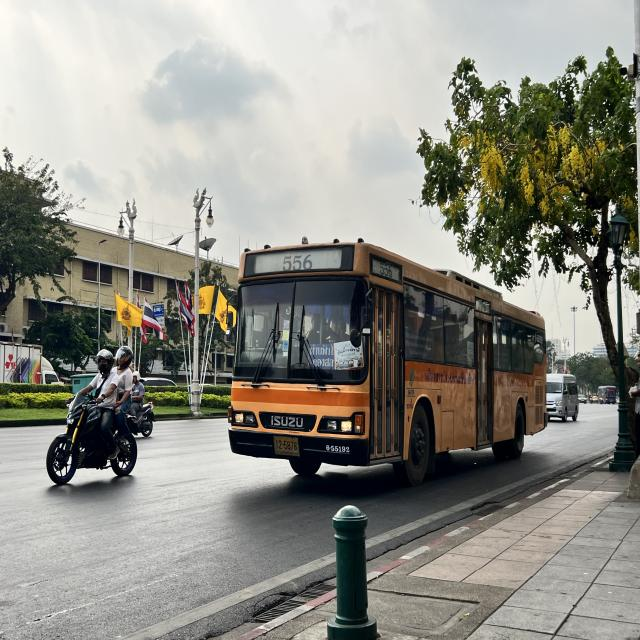BMTA-bus: (228, 241, 548, 487)
Bus Line Number: (280, 254, 318, 273), (377, 258, 395, 280)
Bus Side Number: (323, 442, 353, 458)
Destination Sign: (308, 343, 335, 369)
TSB-Bus: (602, 388, 618, 403)
